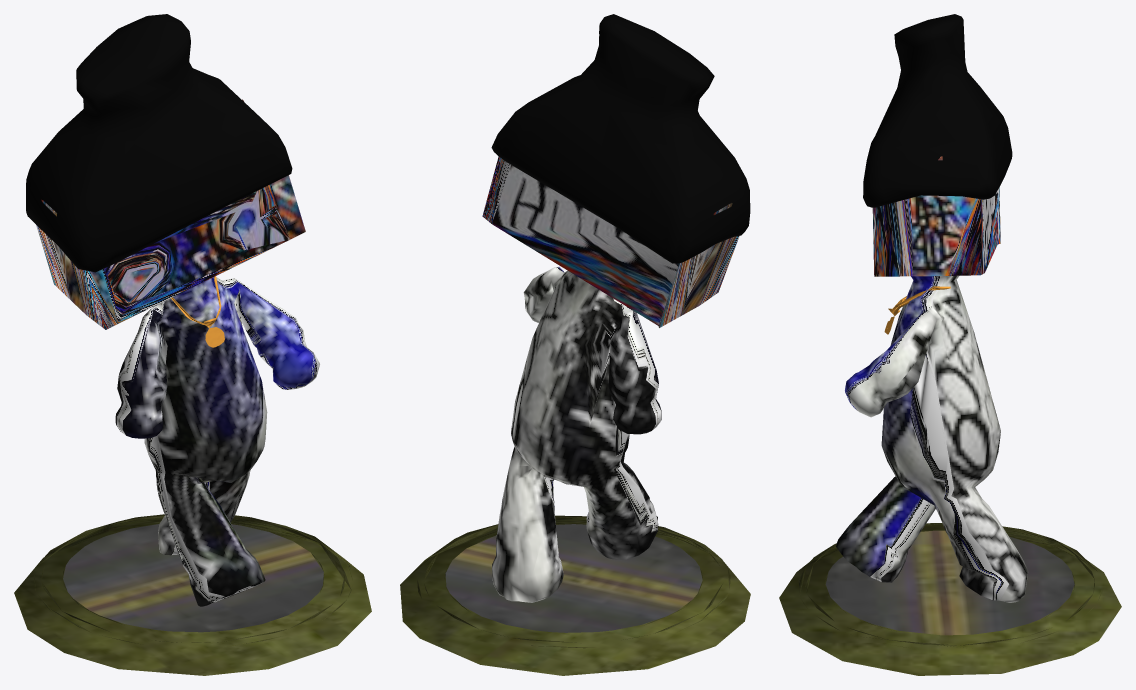
3 renders of one model, left to right at view 1: azimuth 30°, elevation 25°; view 2: azimuth 150°, elevation 25°; view 3: azimuth 270°, elevation 25°, orthographic. The views are drawn at different scales.
Bounding box in the file's own units: 1.43 × 2.63 × 1.44.
6 materials, 5 textured.
